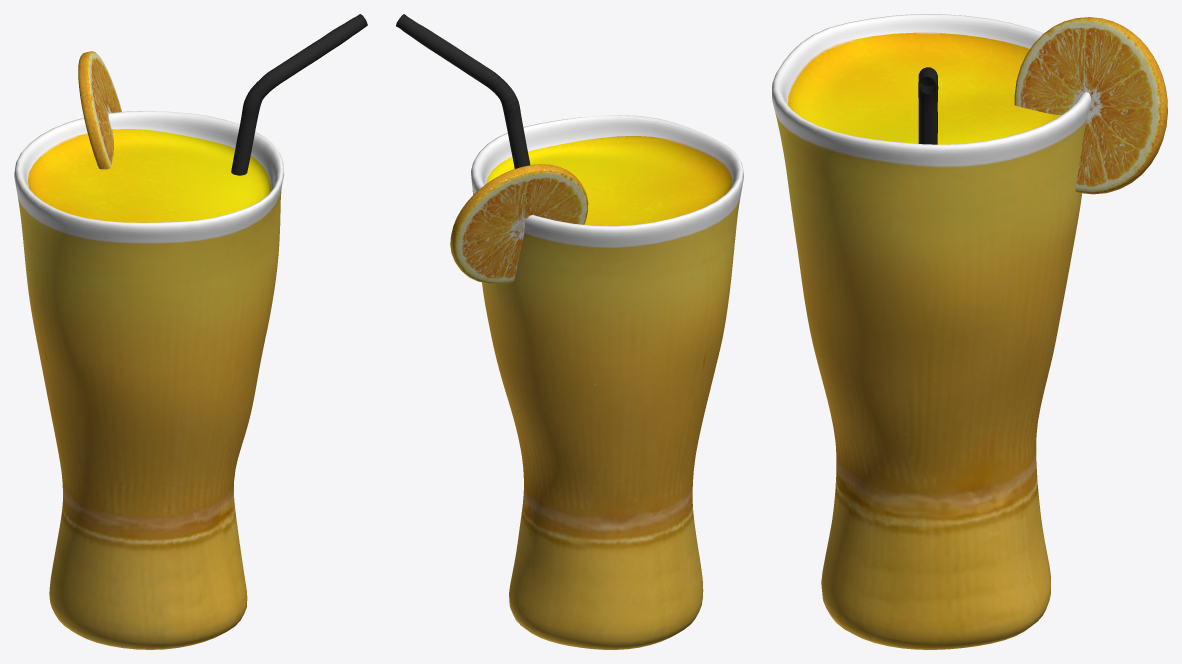
The model's file is glass_of_juice.glb.
3 renders of one model, left to right at view 1: azimuth 30°, elevation 25°; view 2: azimuth 150°, elevation 25°; view 3: azimuth 270°, elevation 25°, orthographic. The views are drawn at different scales.
Visible parts, largest first — view 1: glass_low, straw_low, Orange_low; view 2: glass_low, Orange_low, straw_low; view 3: glass_low, Orange_low, straw_low.
Boxes of the visible parts, box(x1,y1,x2,y2) form: glass_low: box(14, 111, 284, 649); straw_low: box(231, 14, 367, 175); Orange_low: box(78, 51, 121, 169); glass_low: box(471, 115, 743, 649); Orange_low: box(450, 164, 588, 284); straw_low: box(396, 14, 530, 168); glass_low: box(772, 14, 1090, 649); Orange_low: box(1014, 17, 1167, 194); straw_low: box(918, 67, 938, 144).
Size of the model in its own units: 0.1538 by 0.2457 by 0.1345.
Materials: 3 (3 with a texture image).
